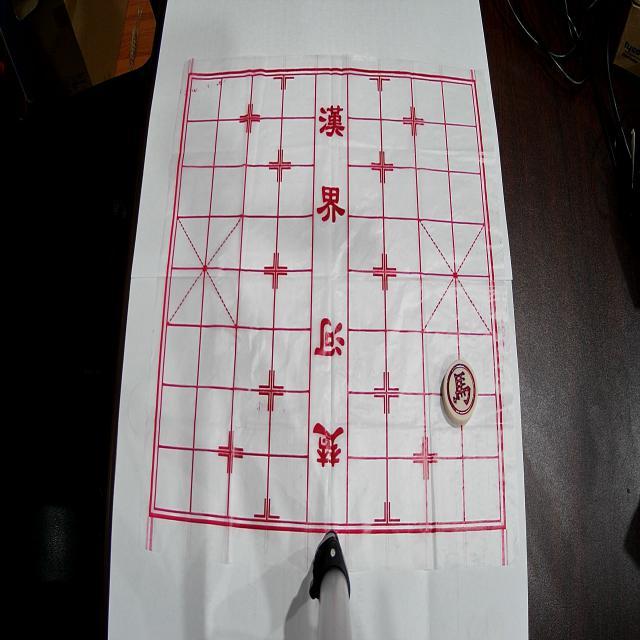red-horse: (442, 360, 478, 424)
